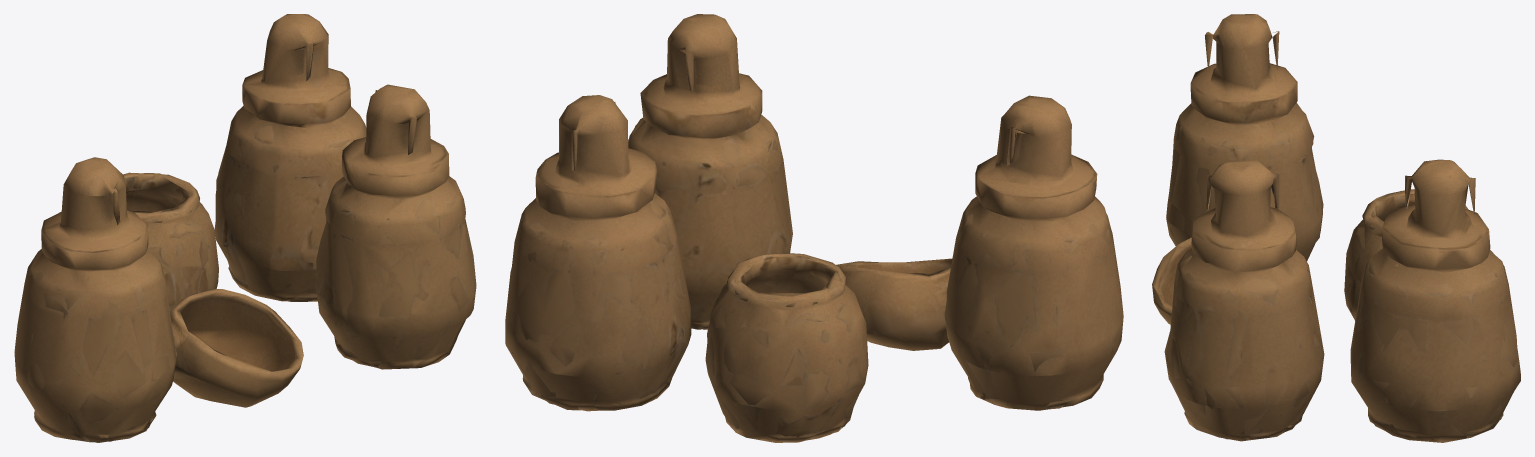
Rendered from urn.glb.
The picture shows the model from 3 angles, left to right: view 1: azimuth 30°, elevation 25°; view 2: azimuth 150°, elevation 25°; view 3: azimuth 270°, elevation 25°; orthographic projection. The views are drawn at different scales.
Size of the model in its own units: 1.9 by 1.06 by 1.39.
1 material, 1 textured.
